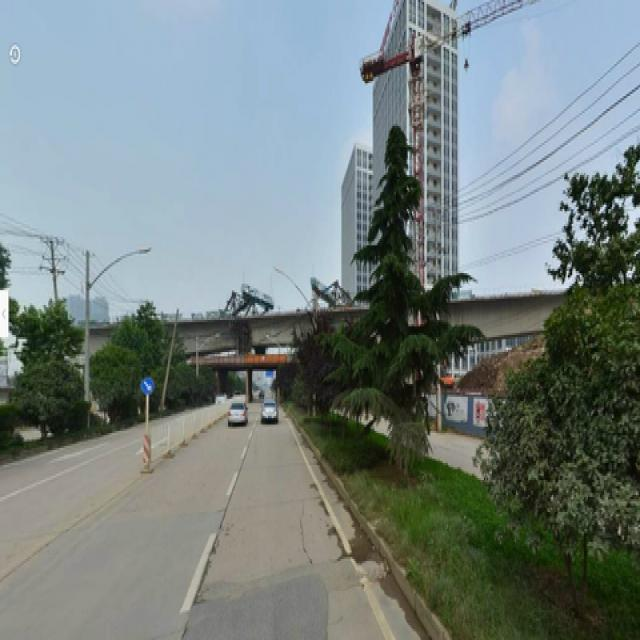cedr: (350, 134, 454, 463)
